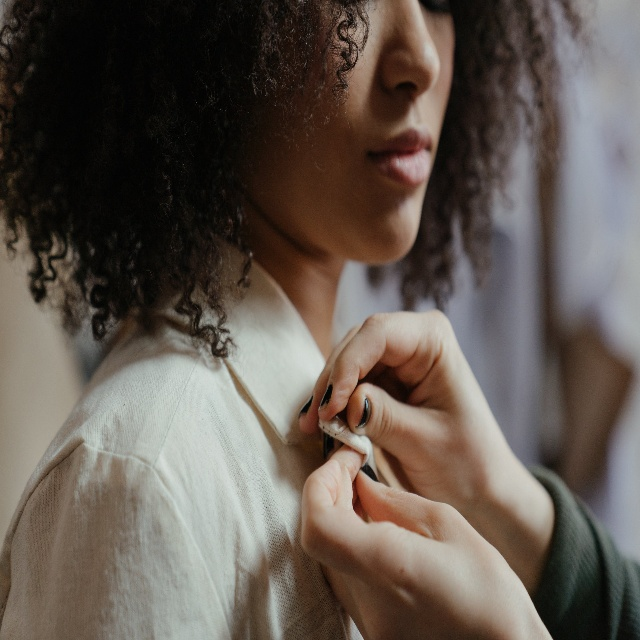Sin_guantes: (301, 428, 545, 640), (298, 308, 502, 529)
